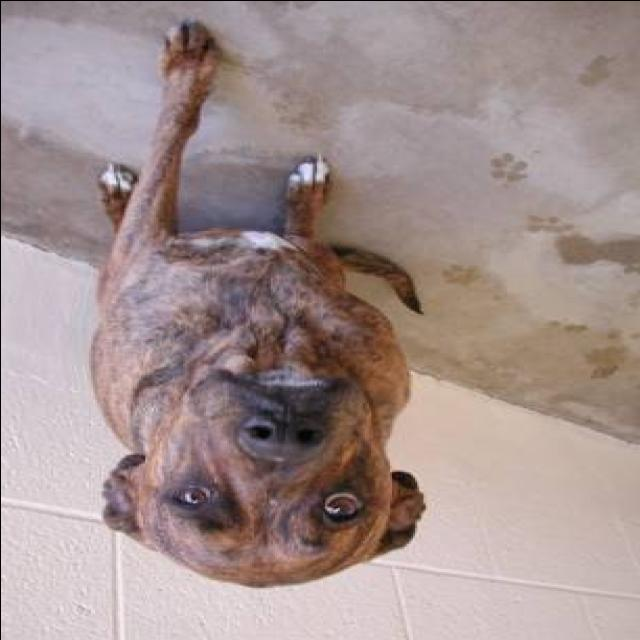dog: (0, 0, 435, 601)
